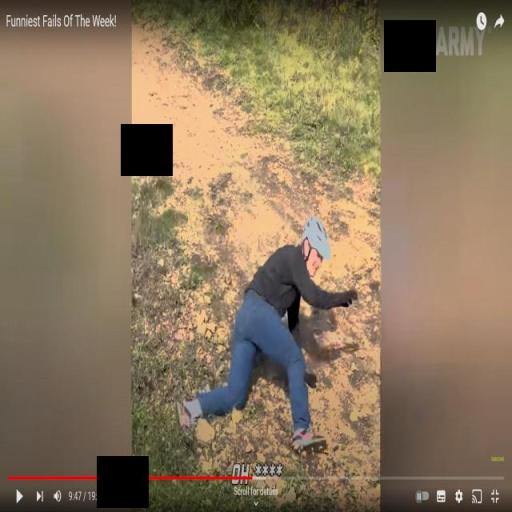Fall: (175, 213, 360, 458)
